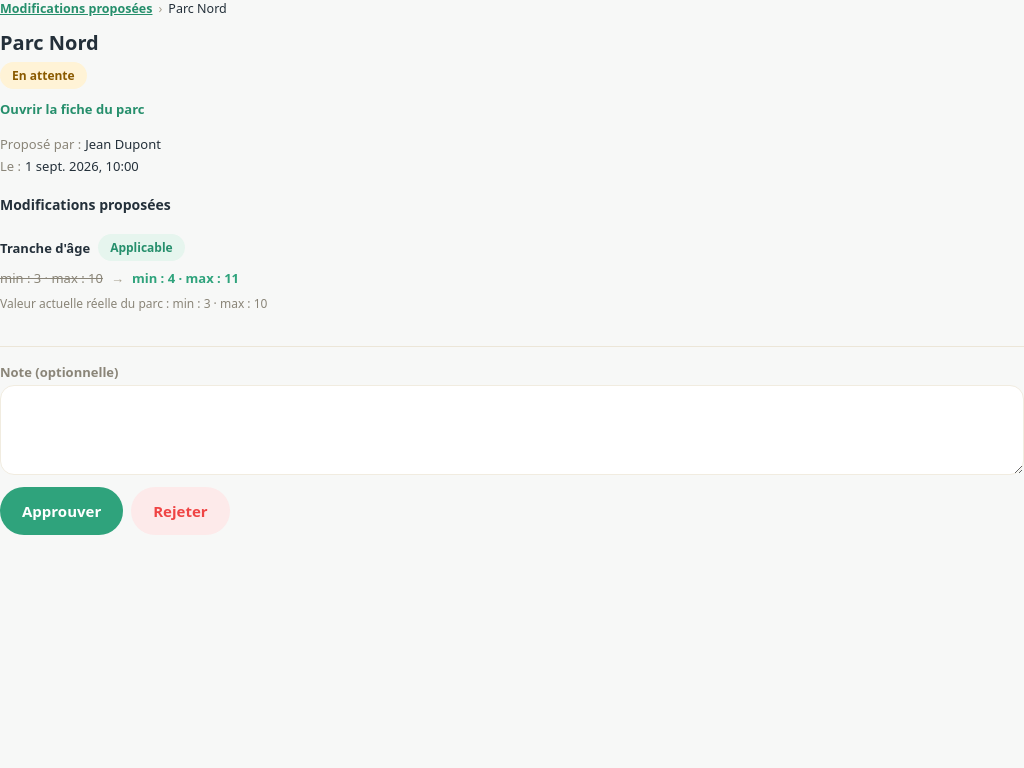
Scenario: ValidationDetail — Admin-3B-2 › annuler la confirmation n'appelle jamais la RPC
Expected: the heading "Parc Nord" is shown, [0, 29, 99, 56]
Click the button "Approuver": click(62, 511) [0, 487, 123, 535]
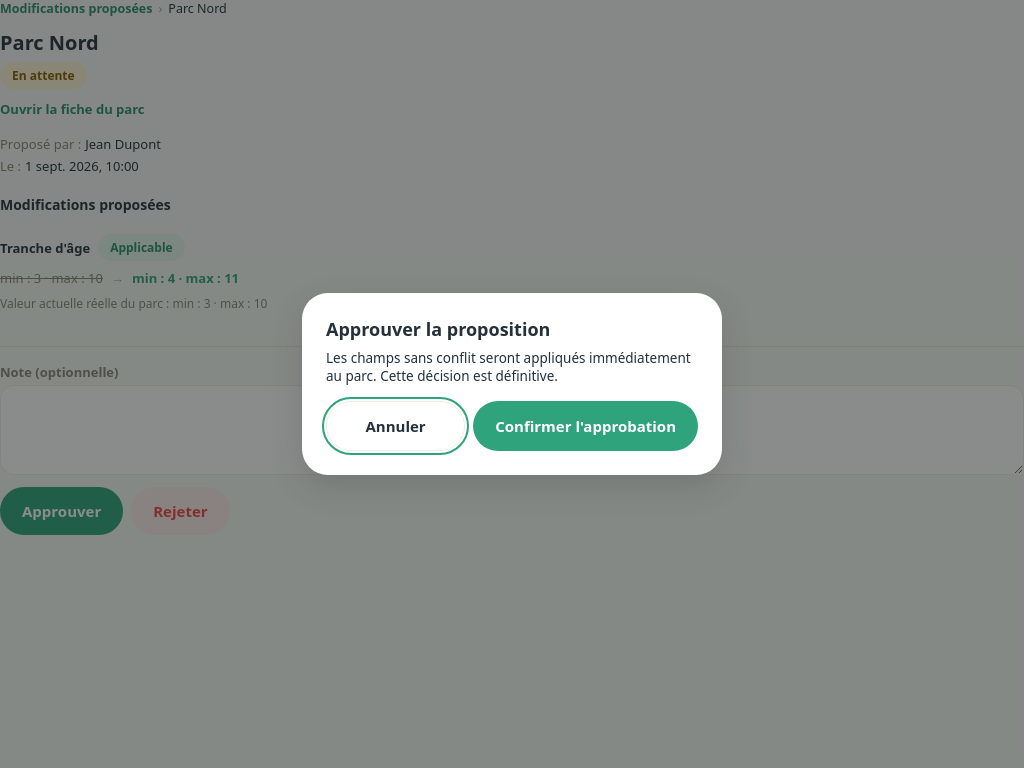
Expected: the heading "Approuver la proposition" is shown, [326, 317, 550, 341]
Click the button "Annuler": click(396, 426) [326, 401, 465, 451]
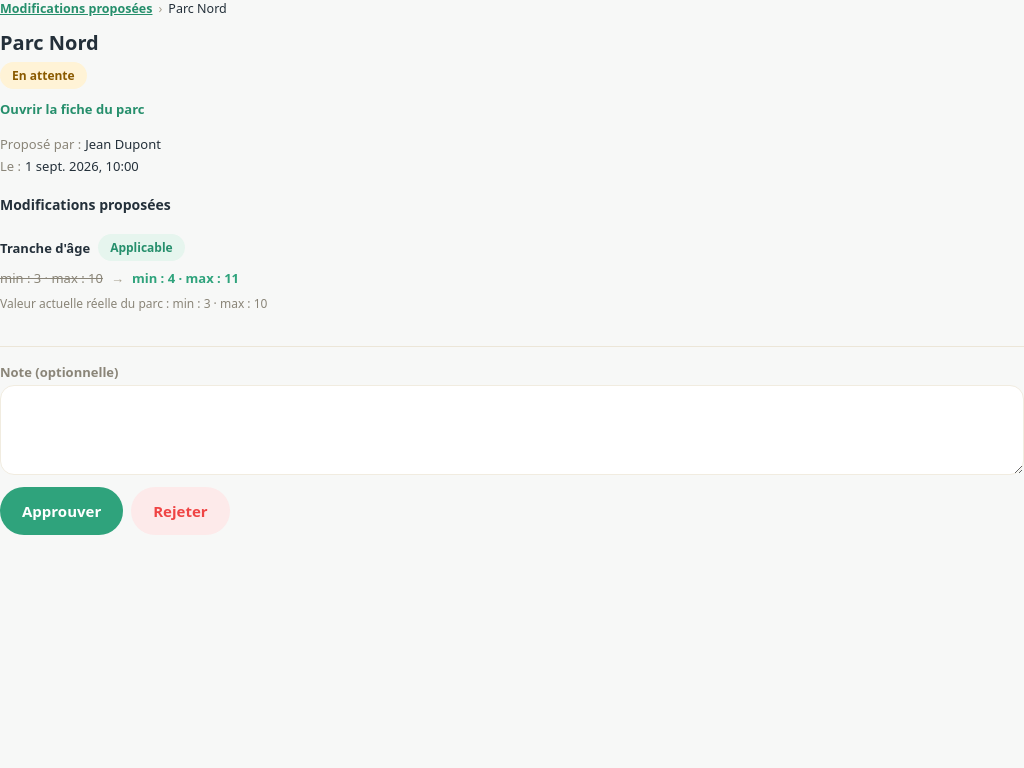
Expected: the heading "Approuver la proposition" is gone
